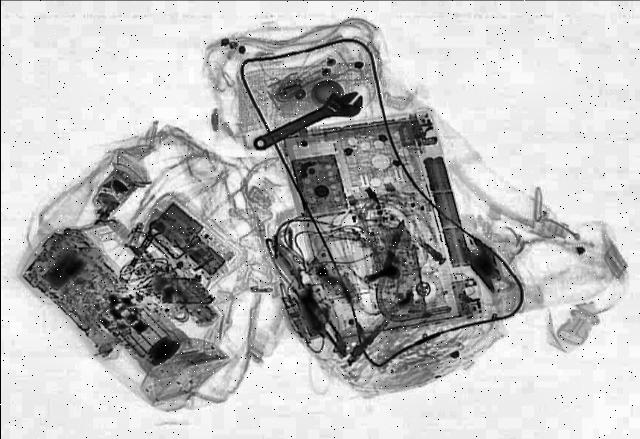Wrench: (246, 84, 376, 158)
